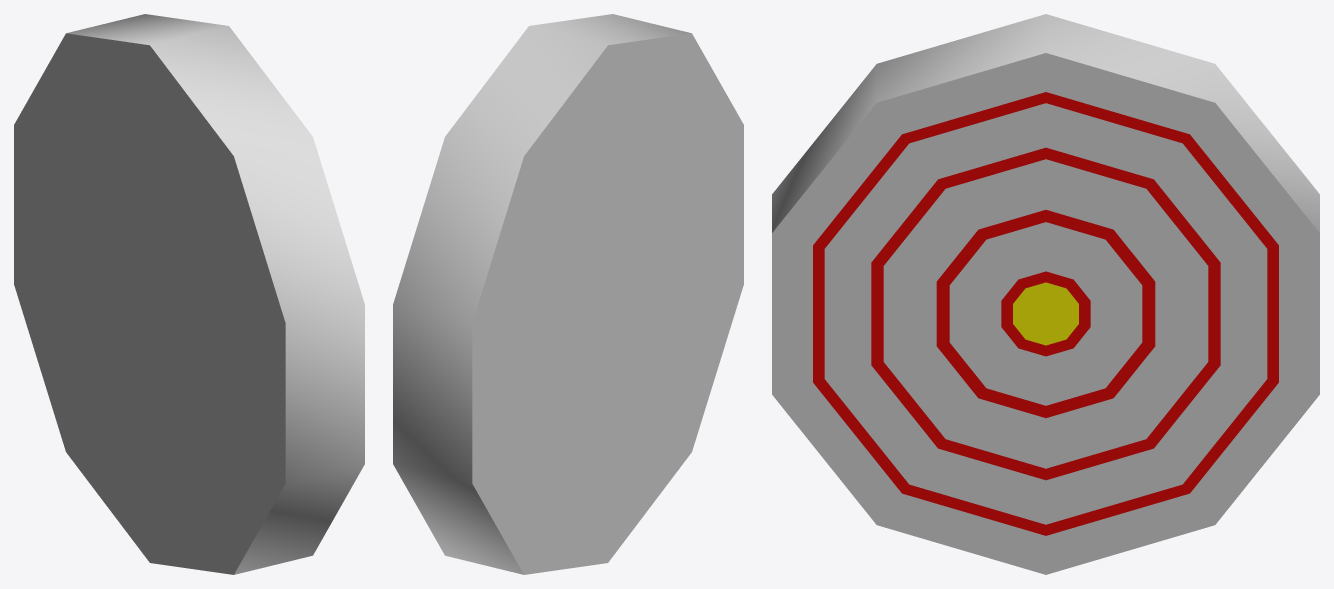
The model's file is target_board.fbx.
3 renders of one model, left to right at view 1: azimuth 30°, elevation 25°; view 2: azimuth 150°, elevation 25°; view 3: azimuth 270°, elevation 25°, orthographic.
Visible parts, largest first — view 1: Cylinder; view 2: Cylinder; view 3: Cylinder.
Boxes of the visible parts, left/top/right/bottom form: Cylinder: left=14, top=14, right=364, bottom=574; Cylinder: left=393, top=14, right=743, bottom=574; Cylinder: left=772, top=14, right=1319, bottom=574.
Size of the model in its own units: 16 by 100 by 95.11.
